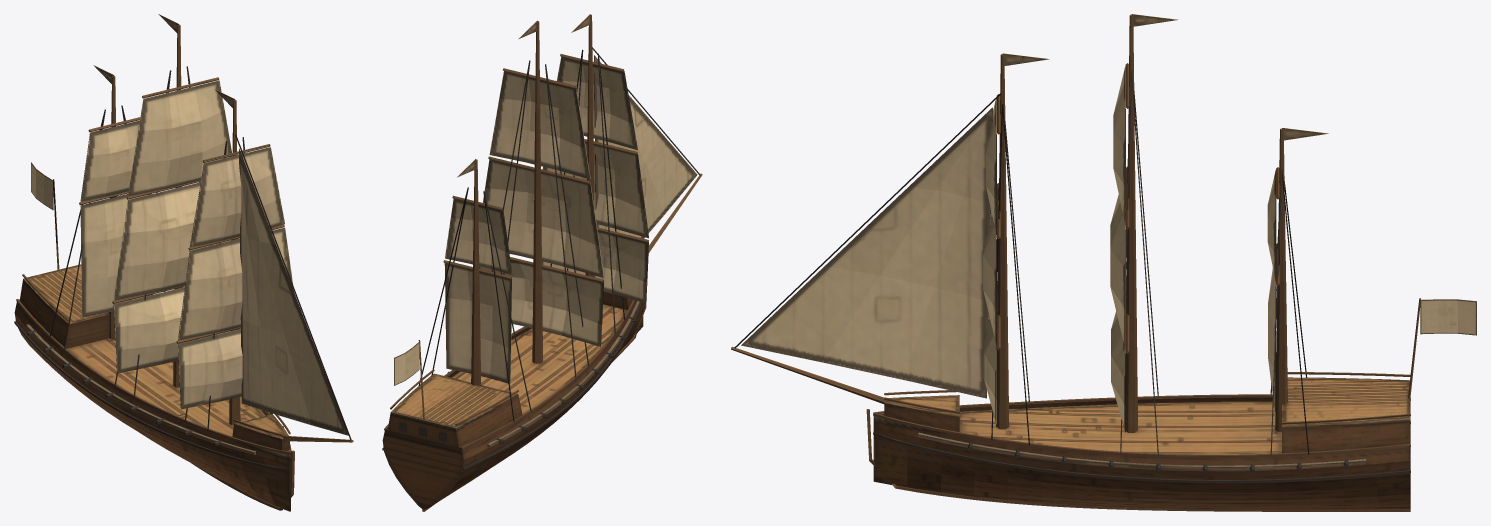
Rendered from Frigate.fbx.
3 renders of one model, left to right at view 1: azimuth 30°, elevation 25°; view 2: azimuth 150°, elevation 25°; view 3: azimuth 270°, elevation 25°, orthographic. The views are drawn at different scales.
Parts seen in each view (by area): view 1: Sail_Jib, Hull, Sail1_3, Sail1_2, Sail0_2, Sail0_3, Deck, Sail1_1, Sail2_1, Sail0_1, Sail2_2, SternCastle0 (+12 smaller); view 2: Sail1_2, Hull, Sail1_3, Sail2_1, Sail1_1, Deck, Sail_Jib, Sail0_2, Sail0_3, SternCastle0_Deck, Sail2_2, Sail0_1 (+15 smaller); view 3: Sail_Jib, Hull, Deck, SternCastle0_Deck, SternCastle0, Mast1, Mast0, Mast2, GunStripe_P, Rail_P, Ensign, Keel (+12 smaller).
Part boxes in pixels (x1=…): Sail_Jib: x1=239, y1=148, x2=348, y2=435; Hull: x1=14, y1=299, x2=291, y2=511; Sail1_3: x1=128, y1=80, x2=232, y2=196; Sail1_2: x1=113, y1=182, x2=239, y2=300; Sail0_2: x1=178, y1=227, x2=293, y2=340; Sail0_3: x1=190, y1=147, x2=284, y2=247; Deck: x1=67, y1=338, x2=265, y2=436; Sail1_1: x1=113, y1=287, x2=240, y2=373; Sail2_1: x1=80, y1=193, x2=151, y2=317; Sail0_1: x1=178, y1=329, x2=242, y2=409; Sail2_2: x1=80, y1=120, x2=139, y2=201; SternCastle0: x1=20, y1=278, x2=109, y2=348; Sail1_2: x1=483, y1=159, x2=603, y2=277; Hull: x1=382, y1=300, x2=643, y2=509; Sail1_3: x1=489, y1=71, x2=590, y2=179; Sail2_1: x1=444, y1=263, x2=512, y2=384; Sail1_1: x1=479, y1=259, x2=603, y2=346; Deck: x1=452, y1=304, x2=627, y2=414; Sail_Jib: x1=594, y1=55, x2=697, y2=238; Sail0_2: x1=542, y1=142, x2=648, y2=238; Sail0_3: x1=557, y1=57, x2=637, y2=150; SternCastle0_Deck: x1=391, y1=374, x2=516, y2=427; Sail2_2: x1=445, y1=199, x2=512, y2=274; Sail0_1: x1=542, y1=230, x2=648, y2=303; Sail_Jib: x1=741, y1=107, x2=992, y2=398; Hull: x1=873, y1=397, x2=1410, y2=509; Deck: x1=959, y1=401, x2=1281, y2=454; SternCastle0_Deck: x1=1282, y1=377, x2=1410, y2=426; SternCastle0: x1=1282, y1=377, x2=1410, y2=453; Mast1: x1=1126, y1=14, x2=1137, y2=432; Mast0: x1=996, y1=54, x2=1009, y2=429; Mast2: x1=1275, y1=128, x2=1287, y2=432; GunStripe_P: x1=918, y1=432, x2=1366, y2=470; Rail_P: x1=873, y1=412, x2=1410, y2=457; Ensign: x1=1420, y1=299, x2=1476, y2=335; Keel: x1=866, y1=409, x2=1410, y2=511.
Bounding box in the file's own units: 11.41 × 34.74 × 47.22.
1 material, 1 textured.
